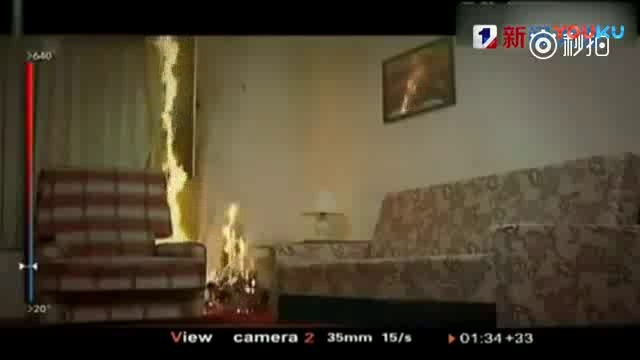fire: (150, 34, 195, 247), (205, 199, 259, 294)
